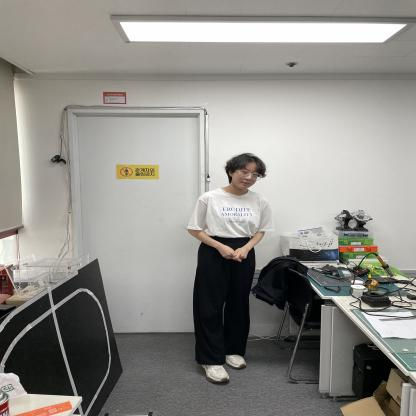normal: (186, 146, 273, 387)
